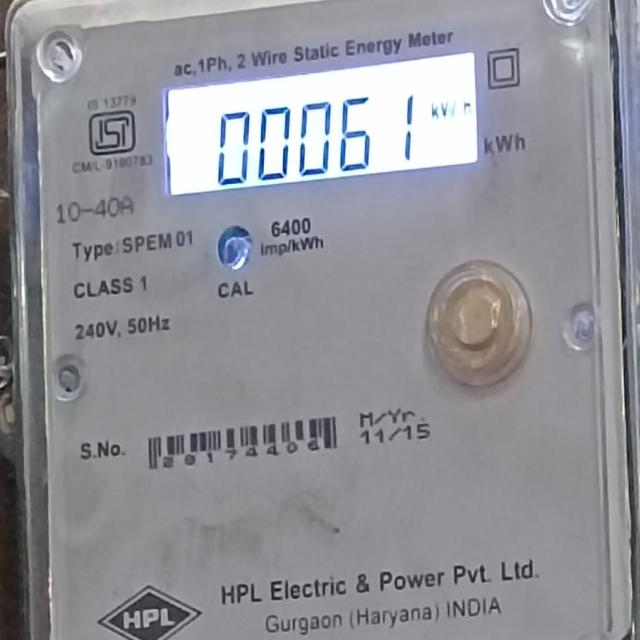display: (163, 67, 487, 185)
